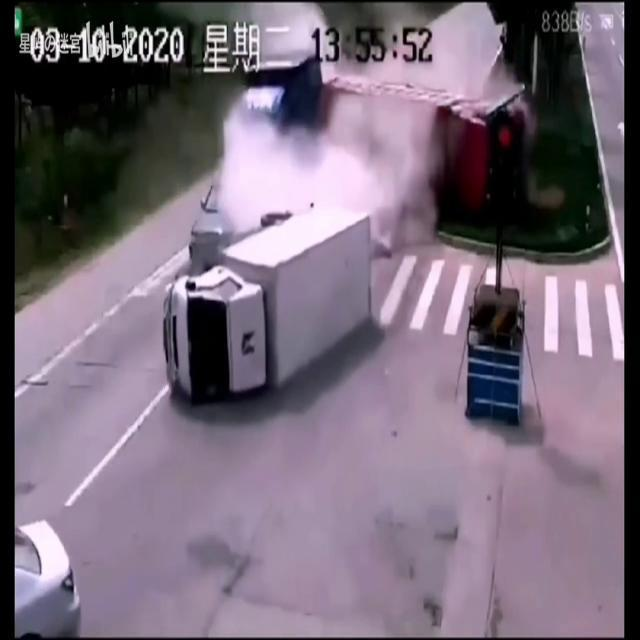accident: (162, 3, 528, 404)
